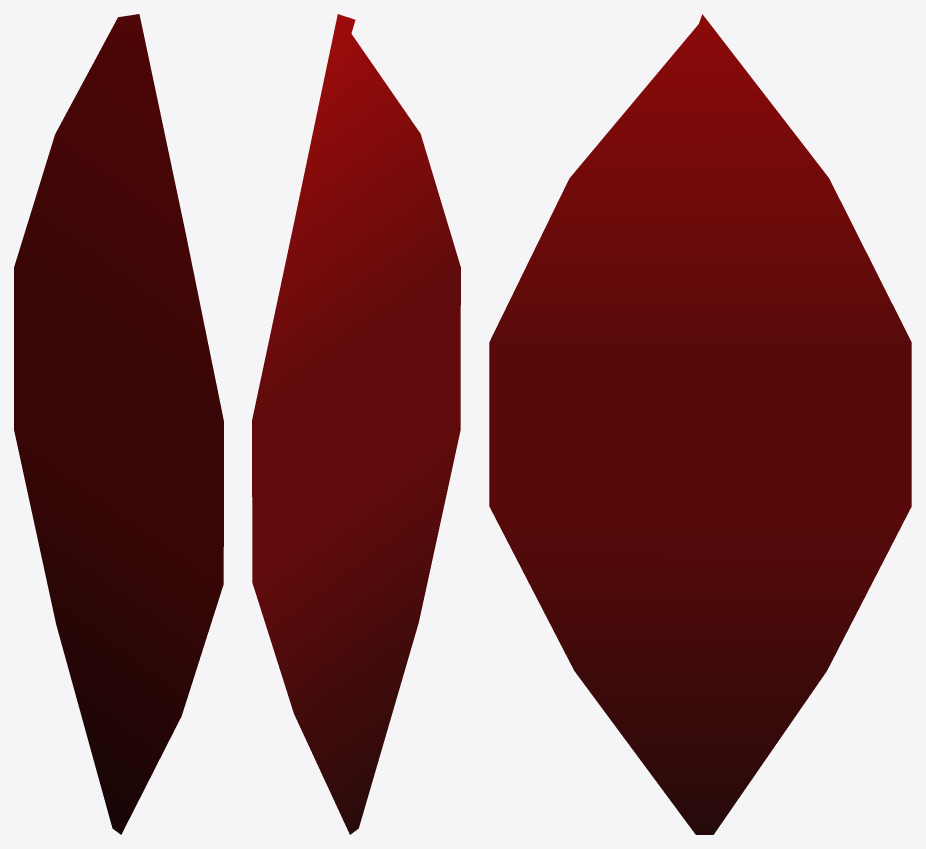
File: Grass_lit.fbx
The picture shows the model from 3 angles, left to right: view 1: azimuth 30°, elevation 25°; view 2: azimuth 150°, elevation 25°; view 3: azimuth 270°, elevation 25°; orthographic projection.
Visible parts, largest first — view 1: Grass; view 2: Grass; view 3: Grass.
Boxes of the visible parts, left/top/right/bottom form: Grass: left=14, top=14, right=223, bottom=834; Grass: left=252, top=14, right=460, bottom=834; Grass: left=489, top=14, right=911, bottom=834.
Bounding box in the file's own units: 185 × 396 × 9.97.
